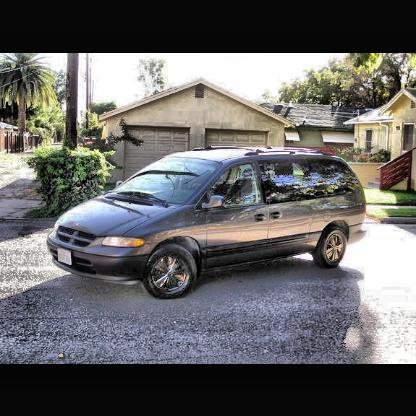Dodge Caravan Minivan 1997: (51, 151, 370, 303)
